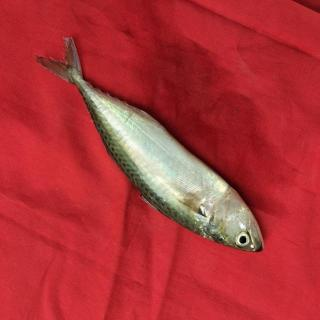Ikan: (21, 28, 277, 266)
